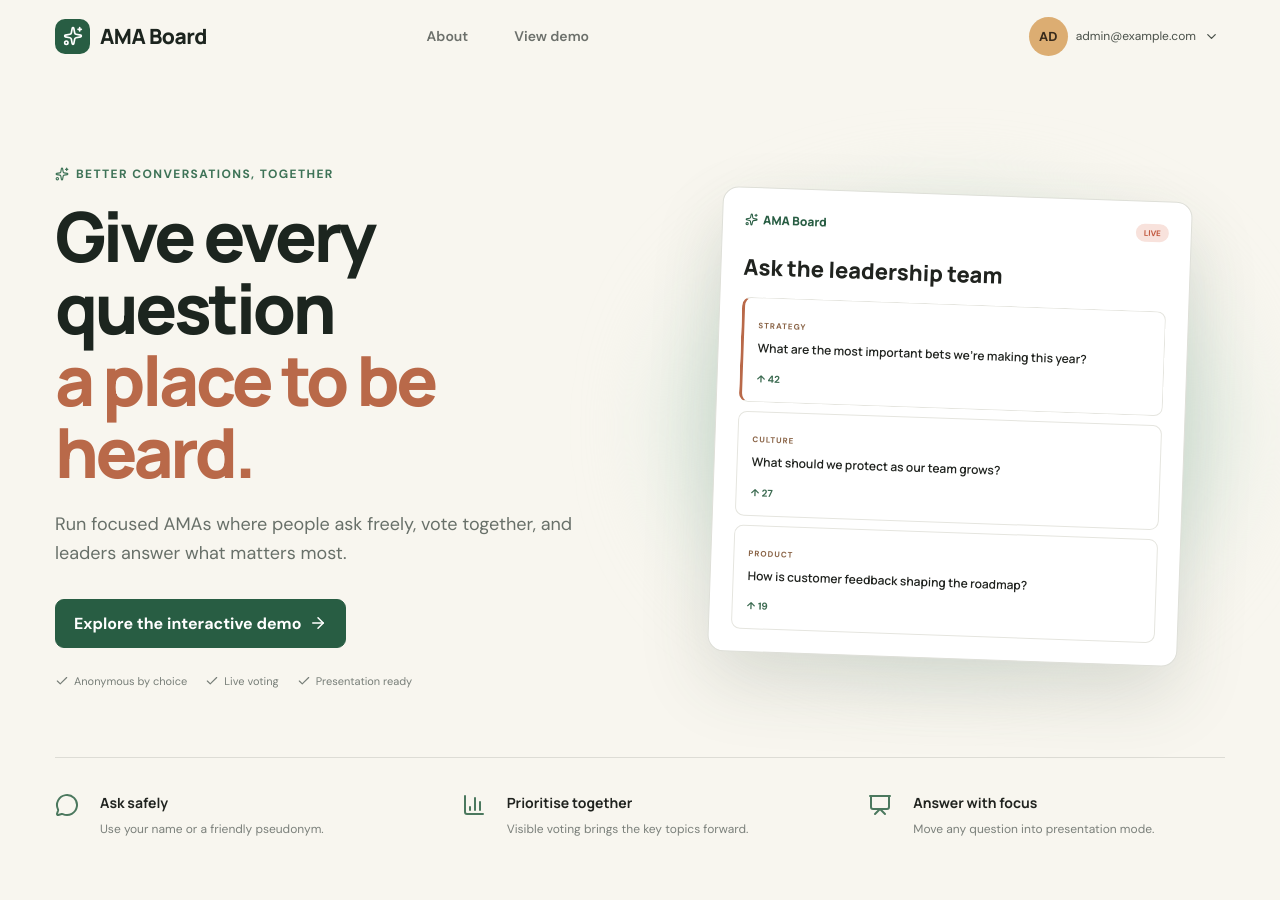
Test: AMA board › shows the signed-in account and site administration
Click the button "AD admin@example.com" at (1124, 36), box [1023,16,1225,56]
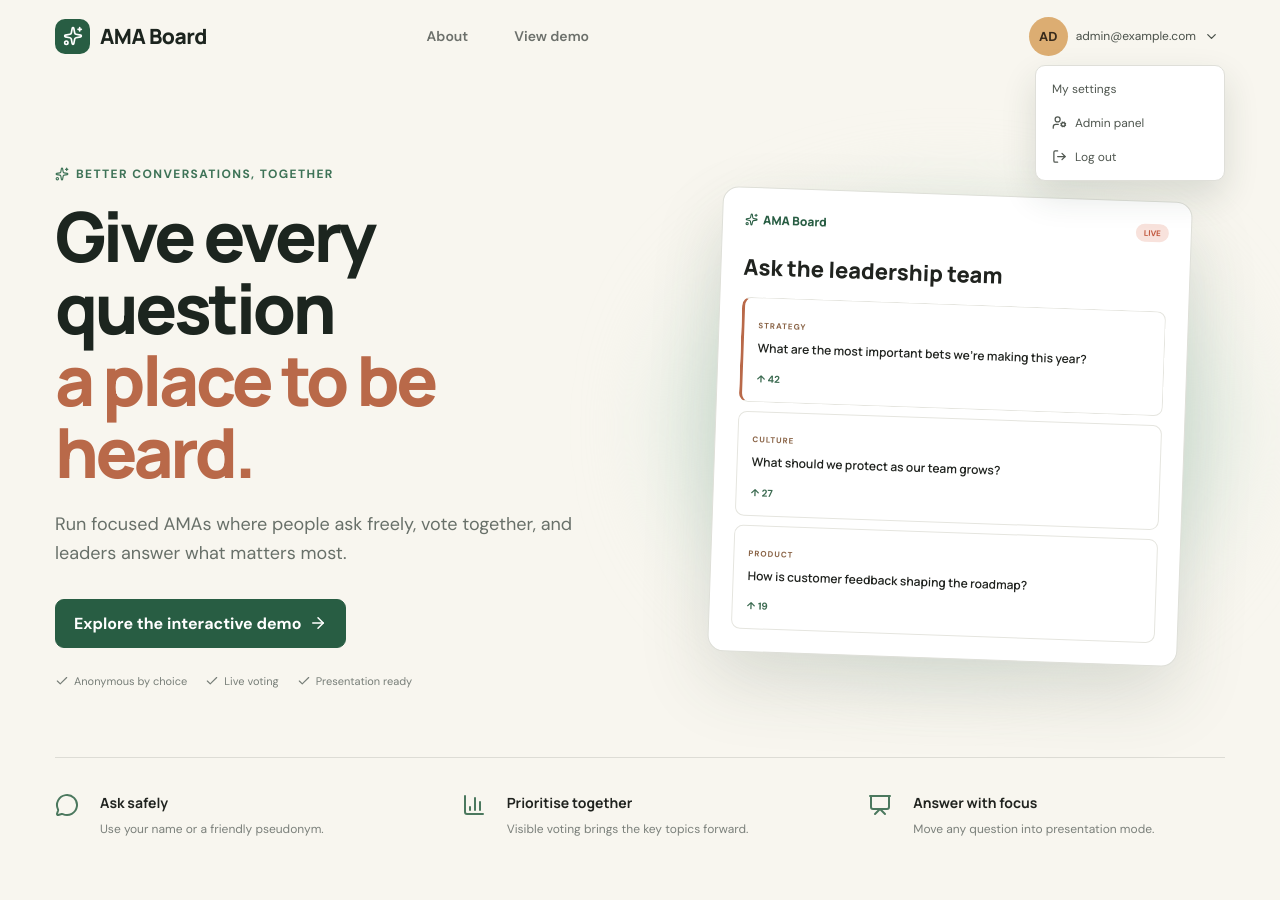
Click the button "Admin panel" at (1130, 122), box [1042,106,1218,140]
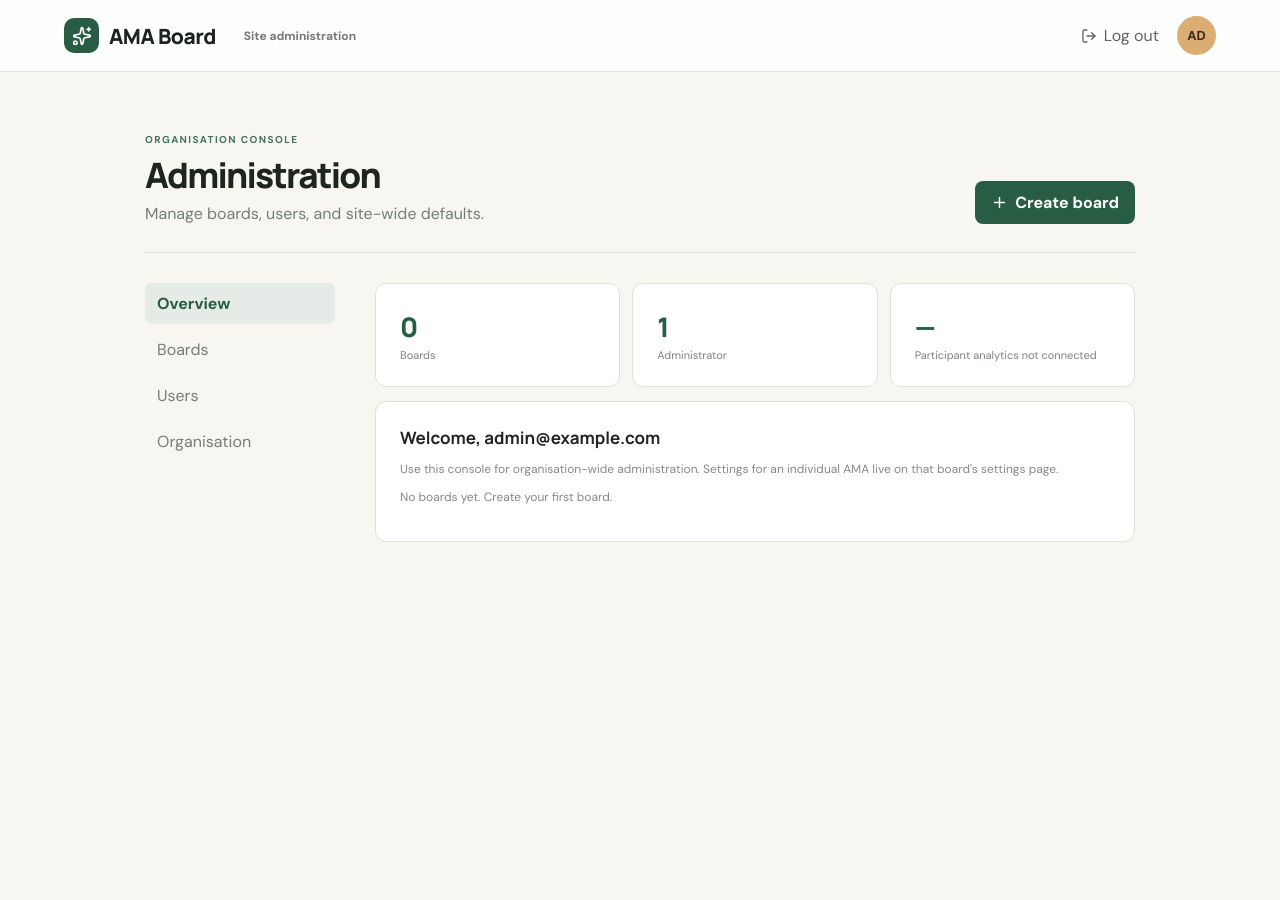
Result: the heading "Administration" is shown at [145,151,380,199]
Result: the heading "Welcome, admin@example.com" is shown at [400,426,660,448]
